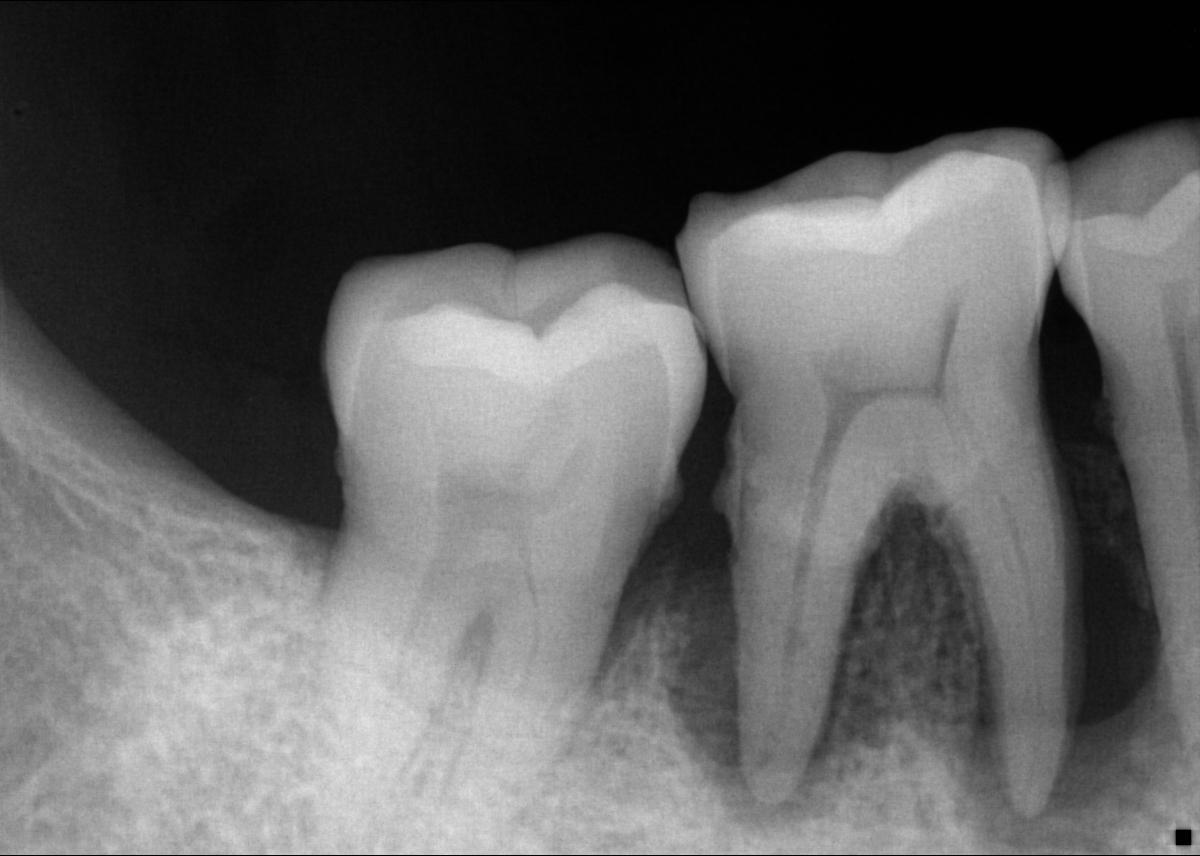Dental Caries: (598, 401, 1181, 854)
